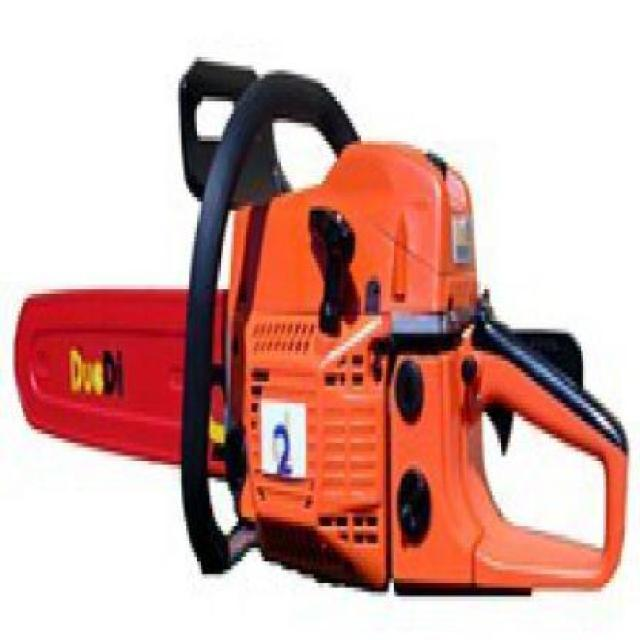Chainsaw: (5, 48, 632, 614)
